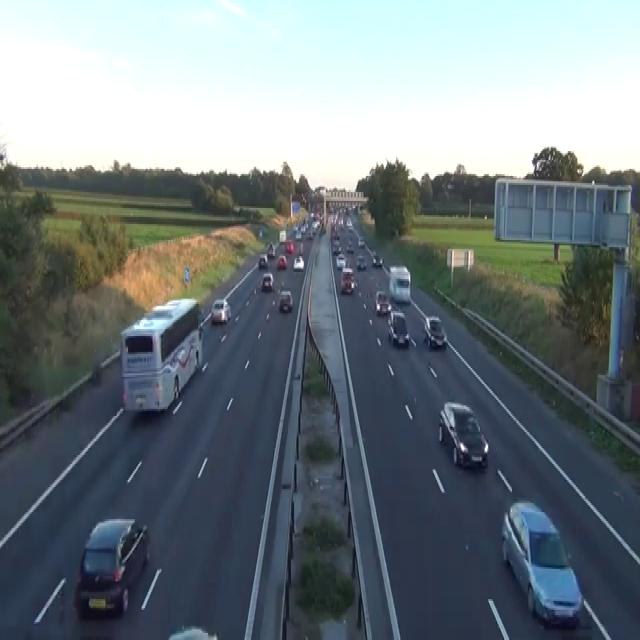Car: (501, 500, 583, 628), (75, 517, 149, 619), (438, 400, 489, 469), (386, 309, 409, 347), (423, 314, 447, 348), (167, 626, 218, 638), (210, 298, 231, 324), (374, 290, 391, 314), (340, 267, 355, 293), (278, 290, 293, 311), (261, 272, 273, 292), (293, 254, 304, 270), (335, 252, 346, 268), (258, 252, 268, 268), (372, 252, 383, 266), (75, 635, 126, 638), (277, 254, 287, 268), (356, 254, 366, 268), (267, 242, 275, 258), (332, 240, 341, 254), (341, 267, 353, 277), (284, 240, 293, 252), (294, 229, 302, 240), (346, 242, 354, 252), (300, 222, 307, 233), (446, 182, 455, 190), (357, 237, 364, 247), (311, 222, 317, 233), (332, 231, 339, 240), (346, 217, 352, 227), (297, 242, 303, 252), (306, 230, 313, 238), (320, 224, 326, 233), (347, 224, 353, 231), (258, 228, 262, 236), (310, 212, 314, 218)
Truck: (120, 297, 203, 412), (389, 265, 410, 302)
